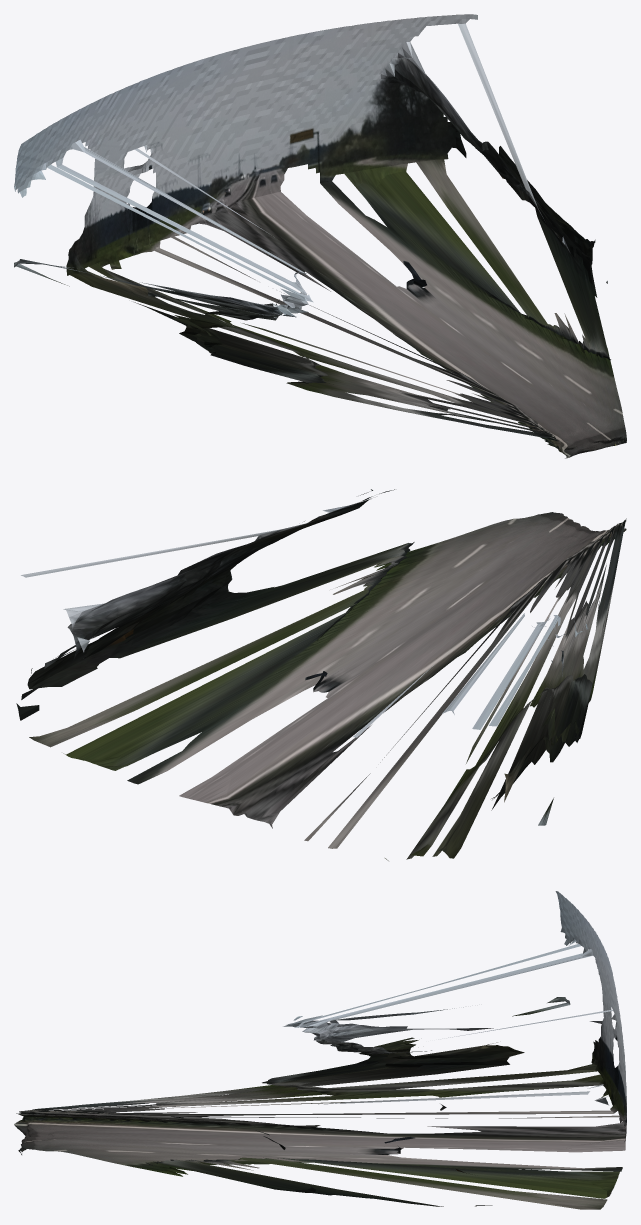
The picture shows the model from 3 angles, top to bottom: view 1: azimuth 30°, elevation 25°; view 2: azimuth 150°, elevation 25°; view 3: azimuth 270°, elevation 25°; orthographic projection. The views are drawn at different scales.
Visible parts, largest first — view 1: defaultobject; view 2: defaultobject; view 3: defaultobject.
Part boxes in pixels (x1,y1,x2,y2): defaultobject: [14, 14, 626, 458]; defaultobject: [16, 489, 626, 860]; defaultobject: [14, 891, 626, 1209].
Size of the model in its own units: 35.79 by 13.11 by 44.76.
1 material, 1 textured.
